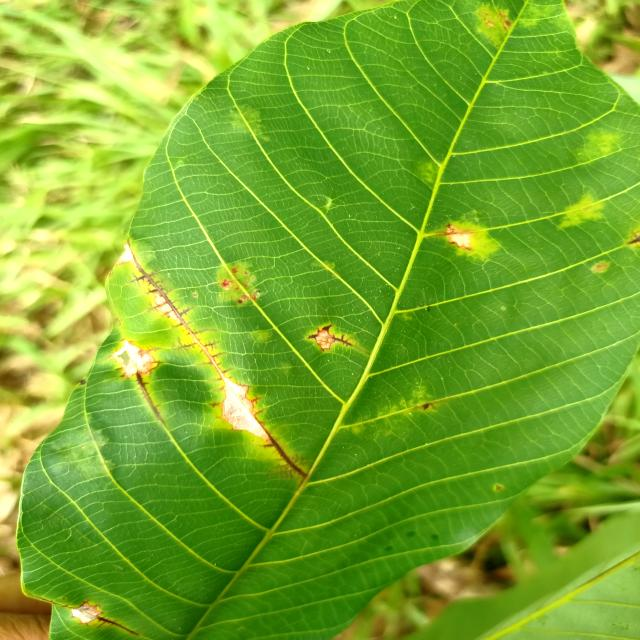Corynespora: (124, 239, 309, 481), (125, 240, 231, 383), (26, 592, 138, 636), (262, 428, 308, 480), (136, 372, 164, 426), (306, 324, 354, 350)
Leaf-Blight: (221, 376, 267, 440), (117, 344, 157, 376), (71, 603, 104, 624), (447, 225, 469, 248)
